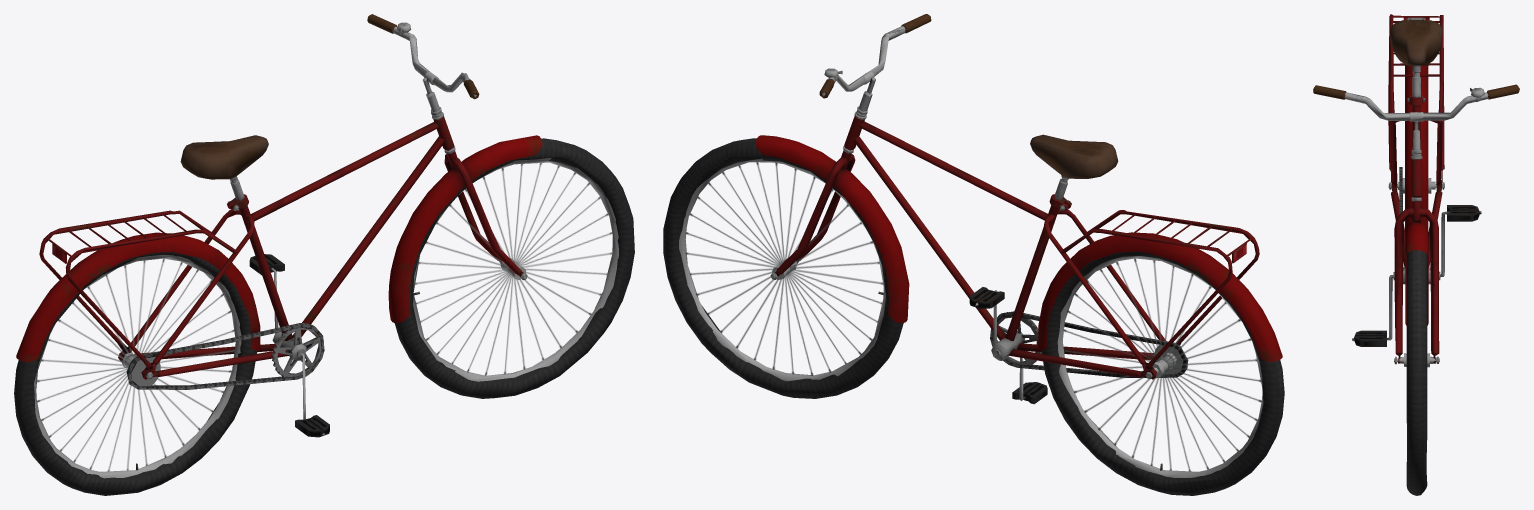
Rendered from bike_red.glb.
3 renders of one model, left to right at view 1: azimuth 30°, elevation 25°; view 2: azimuth 150°, elevation 25°; view 3: azimuth 270°, elevation 25°, orthographic. The views are drawn at different scales.
Visible parts, largest first — view 1: bicycle_bicycle_0; view 2: bicycle_bicycle_0; view 3: bicycle_bicycle_0.
Part boxes in pixels (x1,y1,x2,y2): bicycle_bicycle_0: (14,14,634,495); bicycle_bicycle_0: (663,14,1284,495); bicycle_bicycle_0: (1313,14,1519,495).
Bounding box in the file's own units: 1.83 × 1.05 × 0.5442.
1 material, 1 textured.
